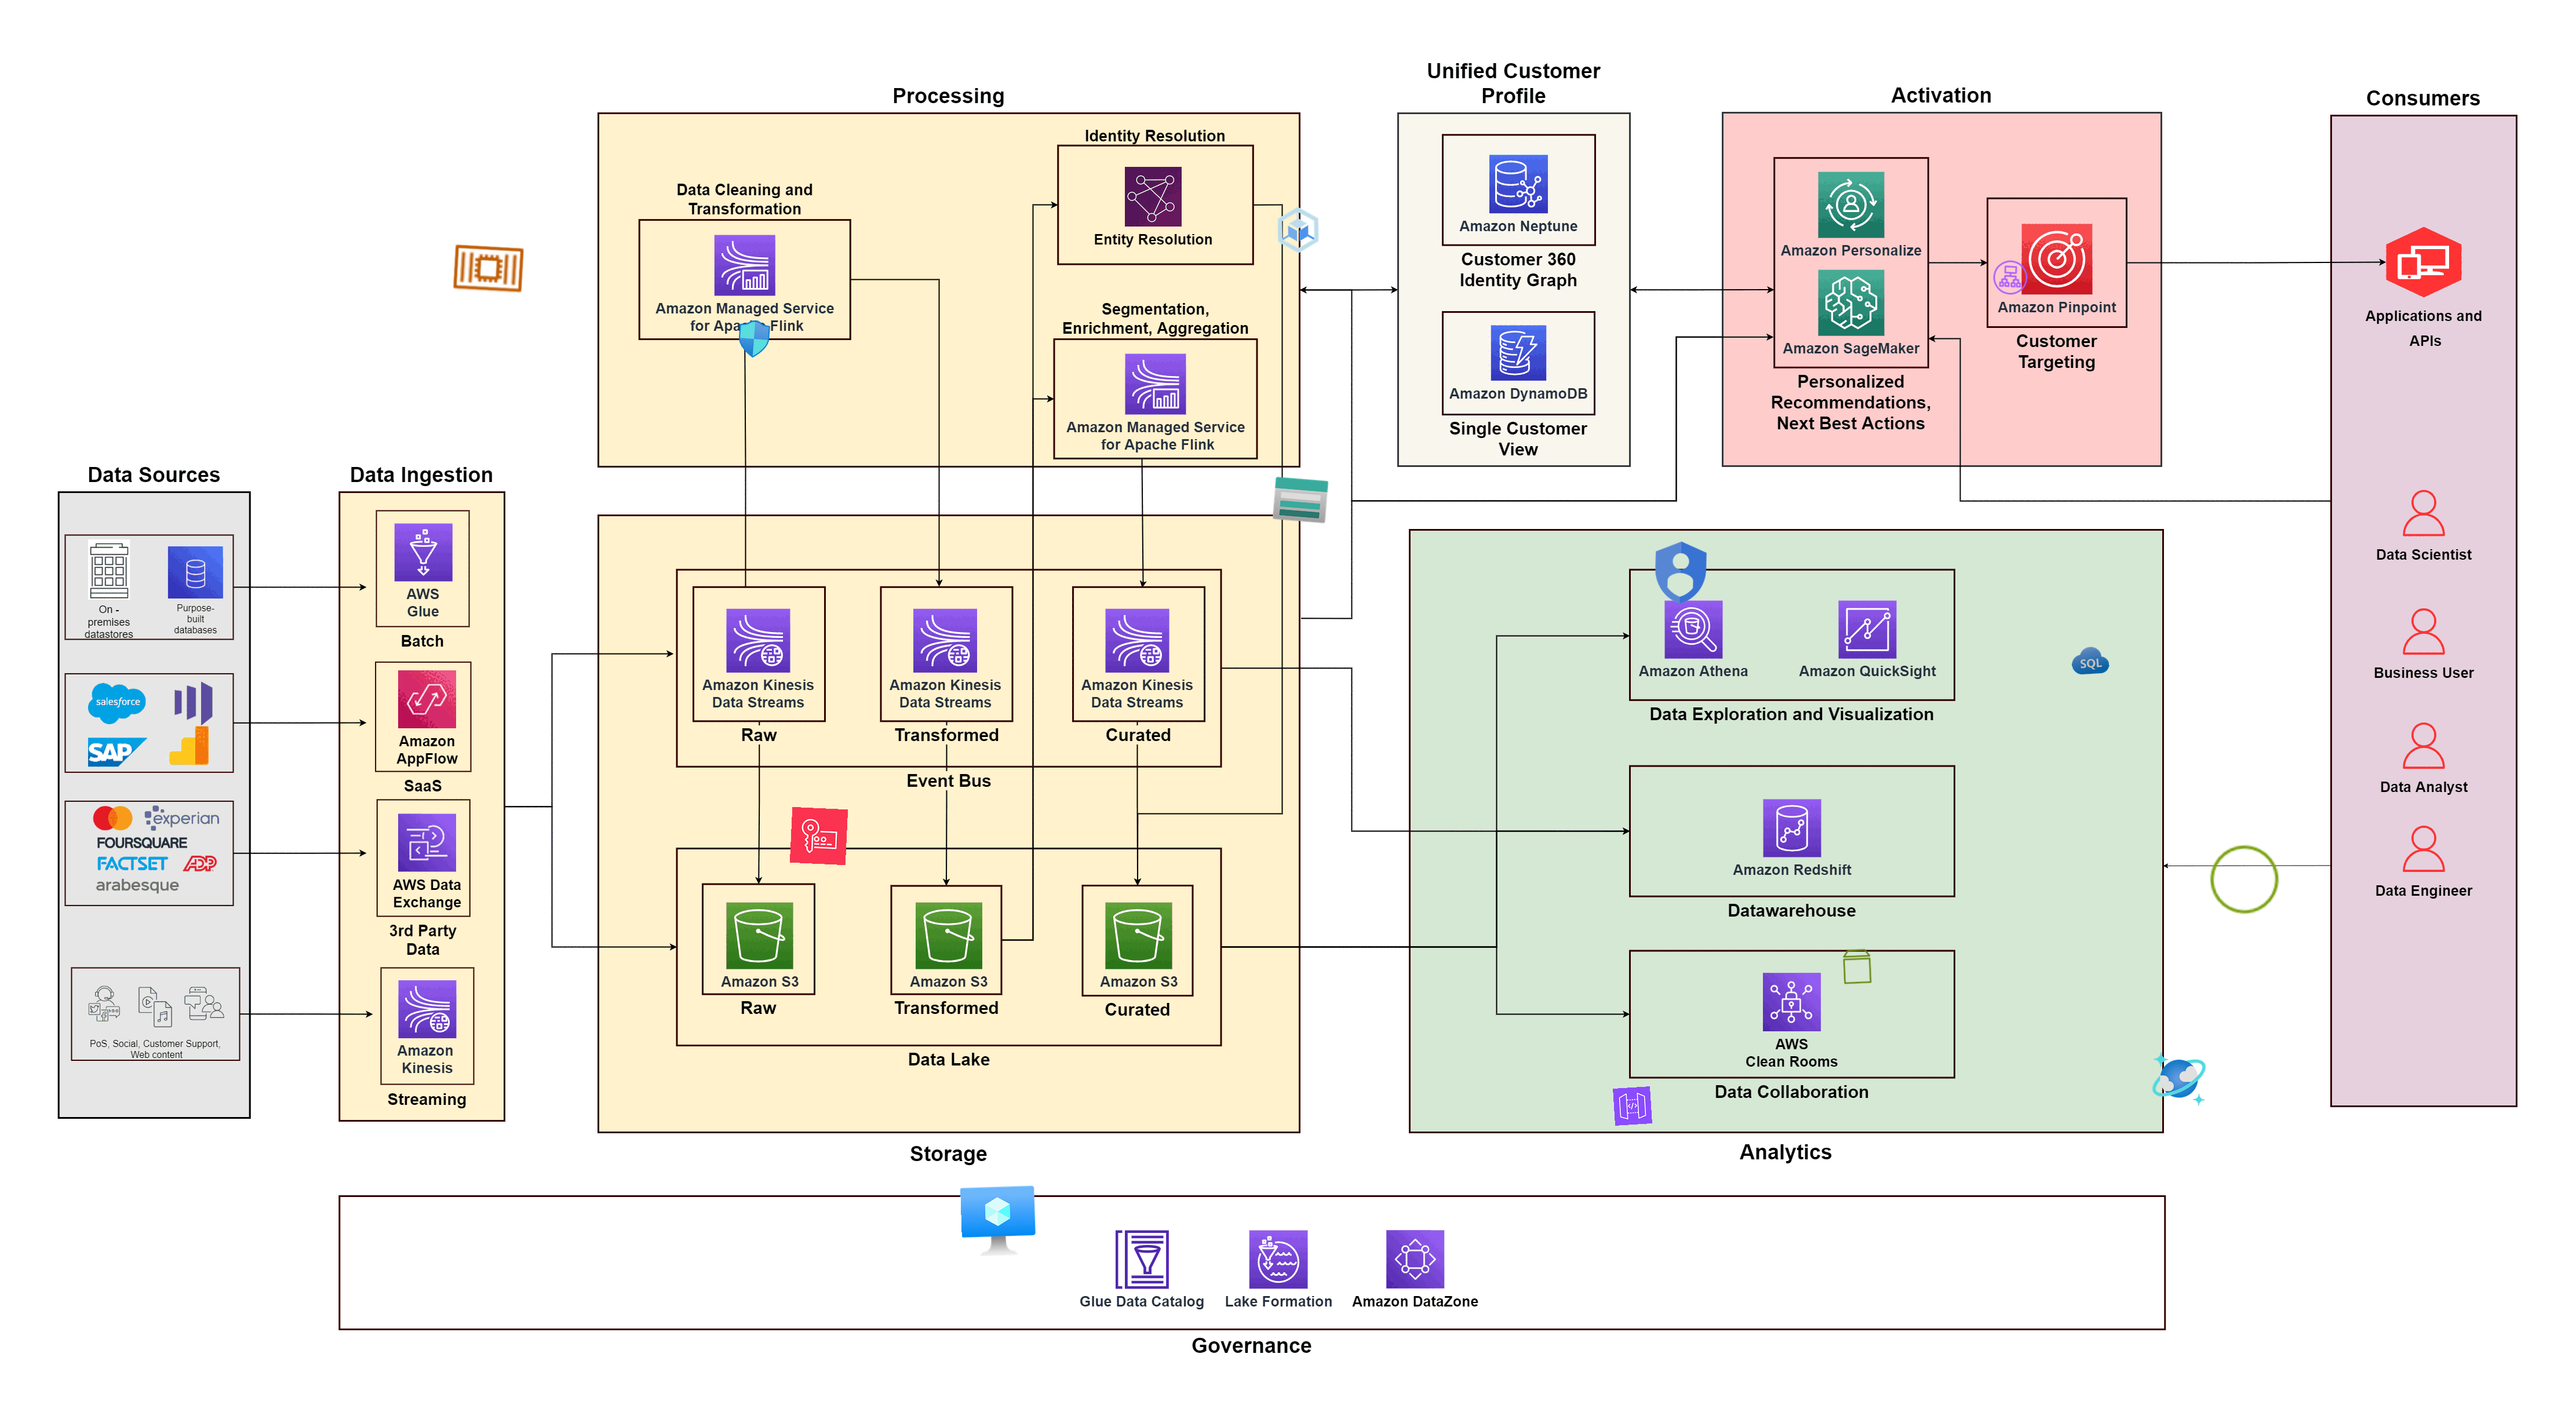aws_amazon_api_gateway: (1613, 1086, 1652, 1127)
aws_elastic_block_store_volume: (1838, 947, 1877, 985)
aws_elastic_container_service_container_2: (450, 228, 528, 307)
aws_elastic_load_balancing_application_load_balancer: (1990, 258, 2030, 296)
aws_key_management_service: (790, 806, 848, 865)
aws_simple_storage_service_object: (2205, 839, 2285, 921)
azure_cosmos_db: (2150, 1050, 2208, 1107)
azure_network_security_groups: (734, 319, 774, 359)
azure_sql: (2070, 642, 2110, 680)
azure_storage_accounts: (1270, 469, 1331, 530)
azure_virtual_machine: (959, 1184, 1038, 1263)
gcp_google_kubernetes_engine: (1270, 202, 1327, 258)
gcp_identity_and_access_management: (1643, 534, 1720, 610)
